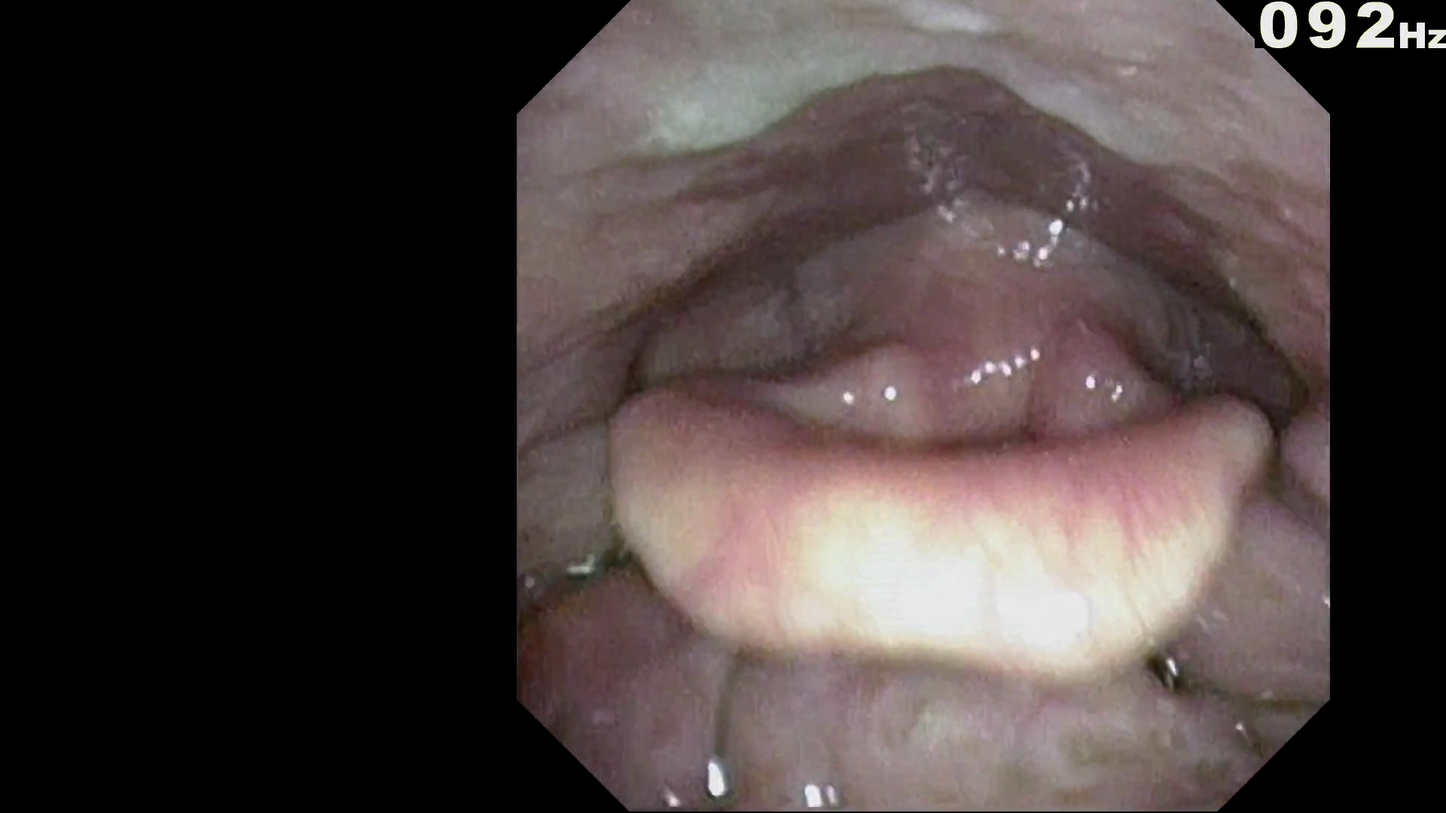epiglottis: (612, 361, 1225, 608)
